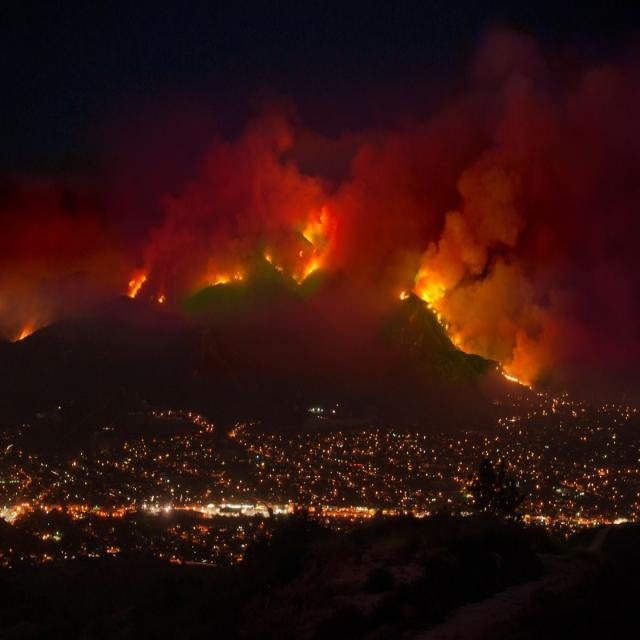Smoke: (122, 25, 640, 402)
